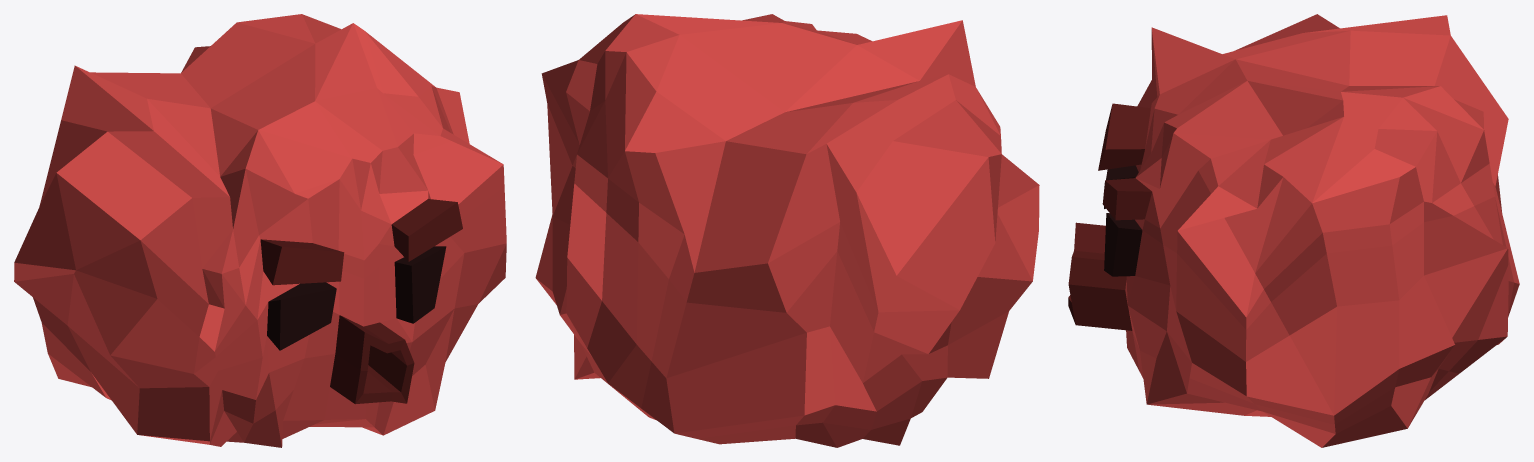
File: pedrito.fbx
3 renders of one model, left to right at view 1: azimuth 30°, elevation 25°; view 2: azimuth 150°, elevation 25°; view 3: azimuth 270°, elevation 25°, orthographic. The views are drawn at different scales.
Visible parts, largest first — view 1: Pedrito; view 2: Pedrito; view 3: Pedrito.
Part boxes in pixels (box(x1,y1,x2,y2)): Pedrito: box(14, 14, 506, 447); Pedrito: box(535, 14, 1039, 447); Pedrito: box(1068, 14, 1519, 447).
Bounding box in the file's own units: 3.67 × 2.84 × 3.4.
